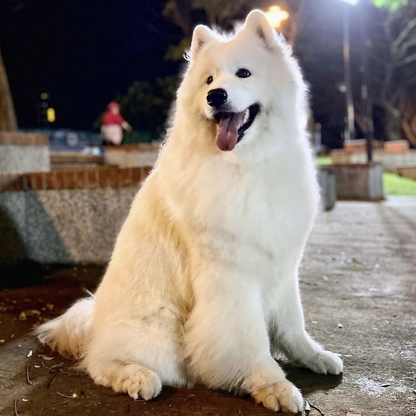samoyed: (30, 5, 355, 416)
